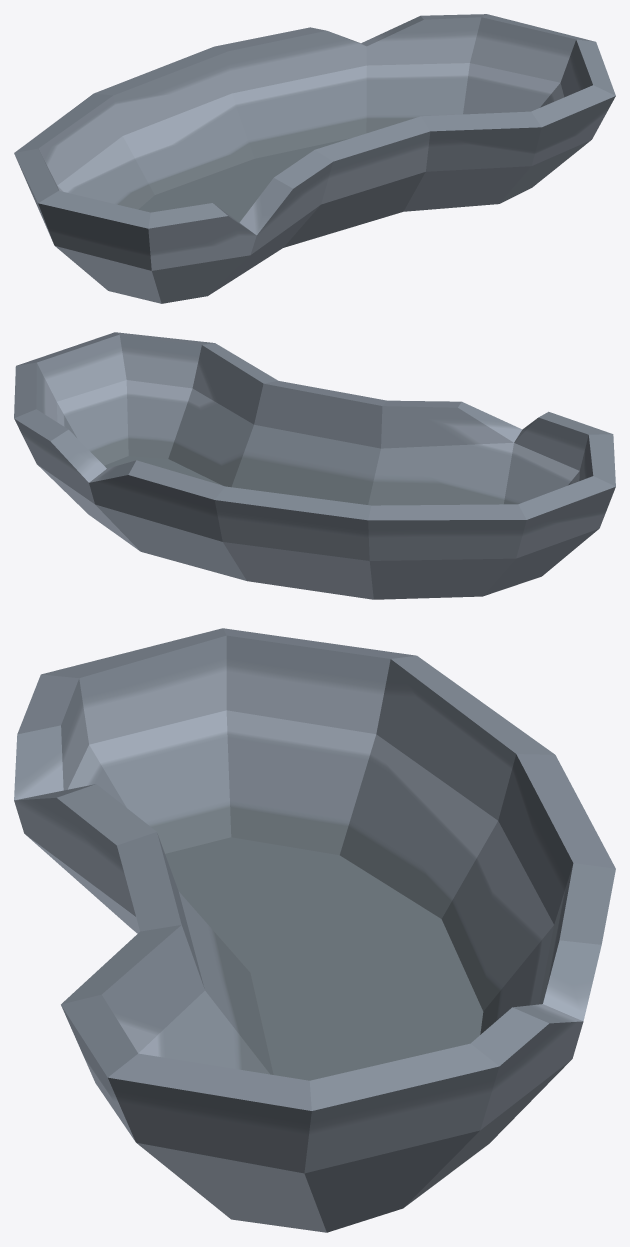
File: SM_Prop_Surgical_Pan_01.fbx
3 renders of one model, top to bottom at view 1: azimuth 30°, elevation 25°; view 2: azimuth 150°, elevation 25°; view 3: azimuth 270°, elevation 25°, orthographic. The views are drawn at different scales.
Visible parts, largest first — view 1: SM_Prop_Surgical_Pan_01; view 2: SM_Prop_Surgical_Pan_01; view 3: SM_Prop_Surgical_Pan_01.
Boxes of the visible parts, bbox=[...] form: SM_Prop_Surgical_Pan_01: bbox=[14, 14, 615, 303]; SM_Prop_Surgical_Pan_01: bbox=[14, 332, 615, 599]; SM_Prop_Surgical_Pan_01: bbox=[14, 628, 615, 1232].
Size of the model in its own units: 59.01 by 11.08 by 31.13.
